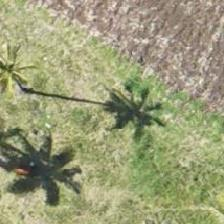coconut_tree: (0, 21, 66, 111)
